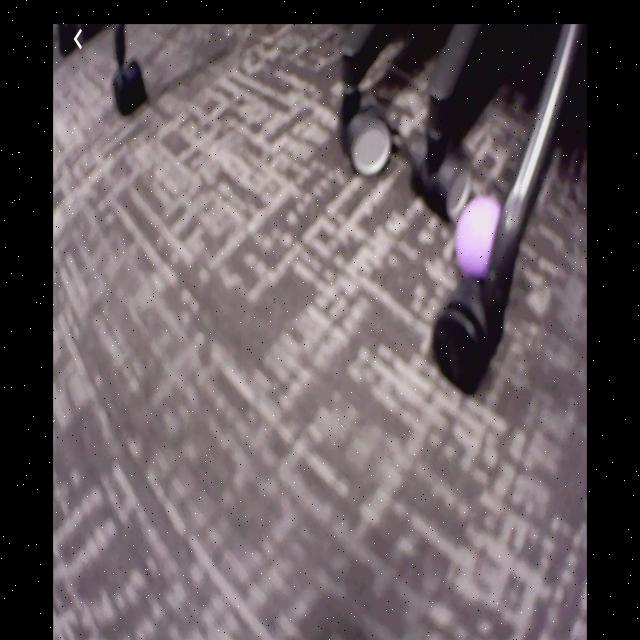ball: (457, 194, 502, 279)
